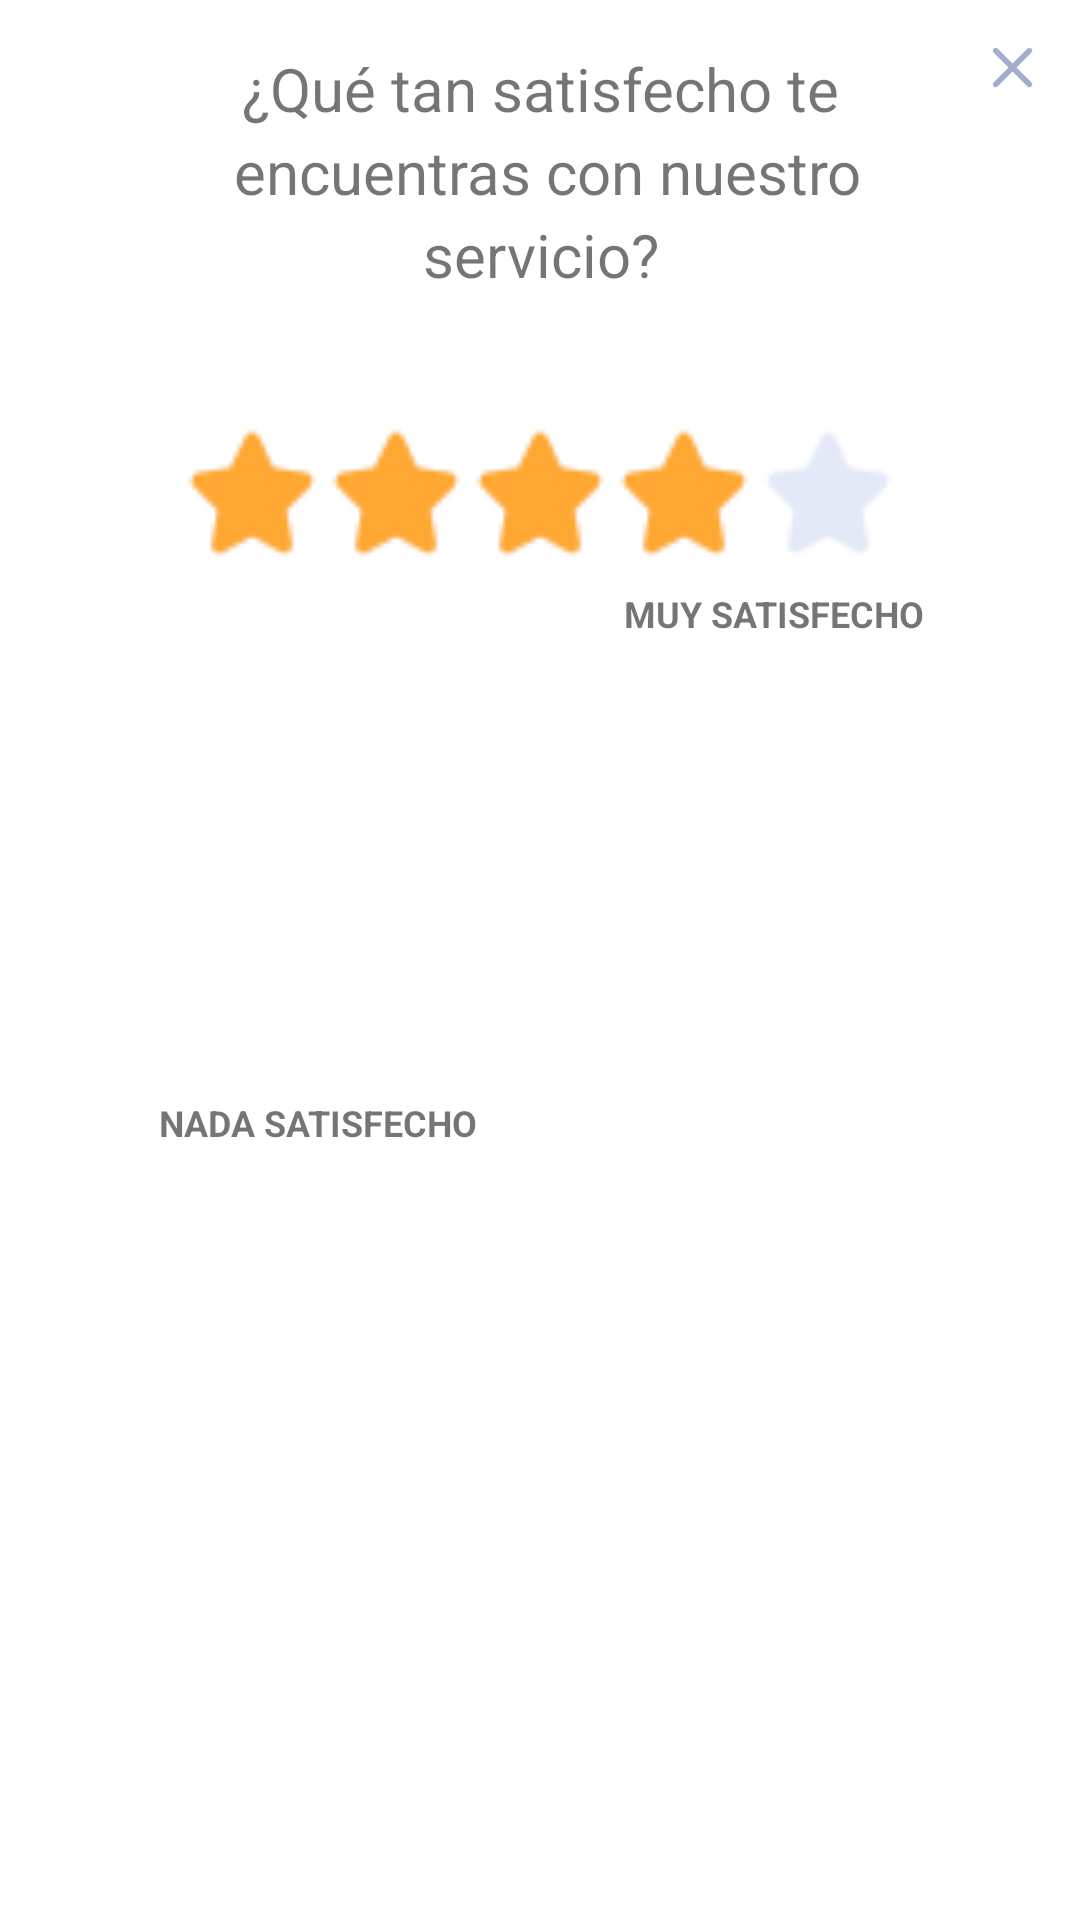

Icon bounding boxes for this 1080*1920 phone screenshot, format (x1,y1,x2,y2):
close: (993,48,1032,87)
